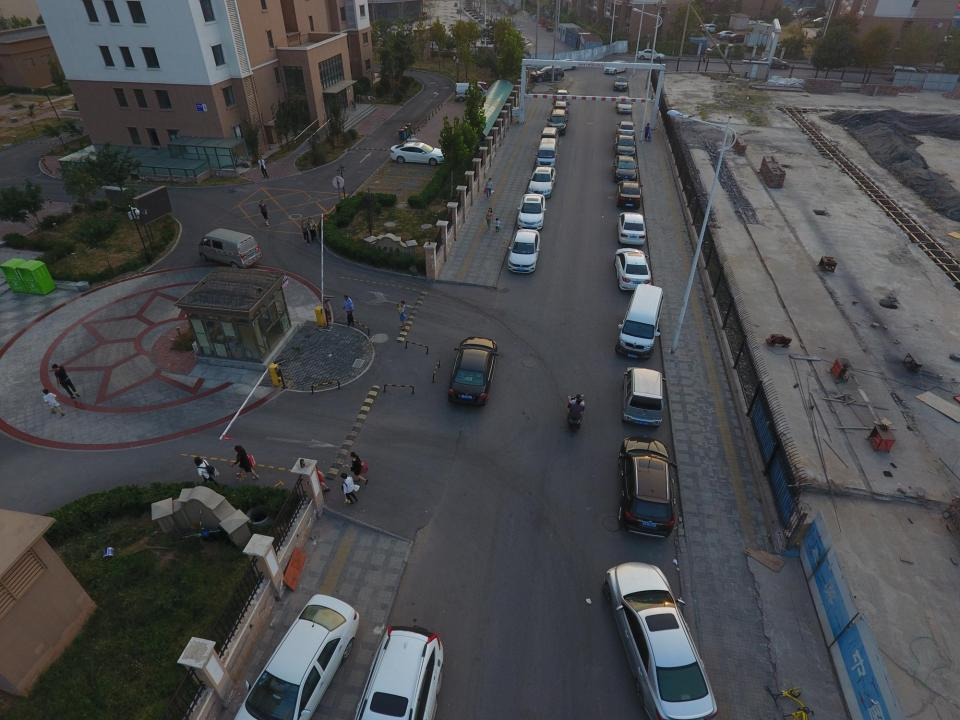car: (602, 560, 717, 720), (230, 590, 362, 720), (354, 624, 446, 720), (616, 435, 676, 535), (449, 337, 499, 408), (614, 248, 653, 291), (508, 229, 540, 274), (389, 142, 447, 165), (517, 194, 546, 232), (616, 212, 646, 246), (526, 166, 556, 198), (616, 180, 642, 209), (612, 156, 638, 182), (547, 108, 568, 136), (530, 66, 564, 83), (614, 135, 637, 159), (758, 57, 789, 69), (637, 48, 665, 61), (616, 121, 635, 140), (604, 60, 628, 73), (552, 100, 569, 118), (616, 96, 632, 114), (613, 75, 627, 92), (554, 89, 569, 104), (728, 33, 747, 43), (716, 30, 737, 39), (701, 24, 719, 32)
van: (618, 282, 662, 360), (198, 228, 262, 270), (624, 367, 663, 426), (454, 82, 492, 102), (534, 138, 558, 168), (706, 43, 734, 56), (540, 127, 558, 146)
